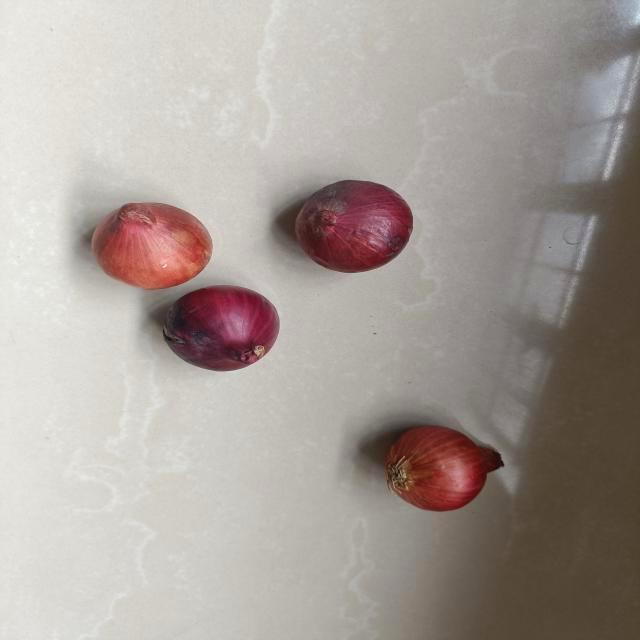onion: (288, 175, 418, 279), (383, 421, 507, 517), (90, 198, 215, 293), (160, 282, 283, 374)
